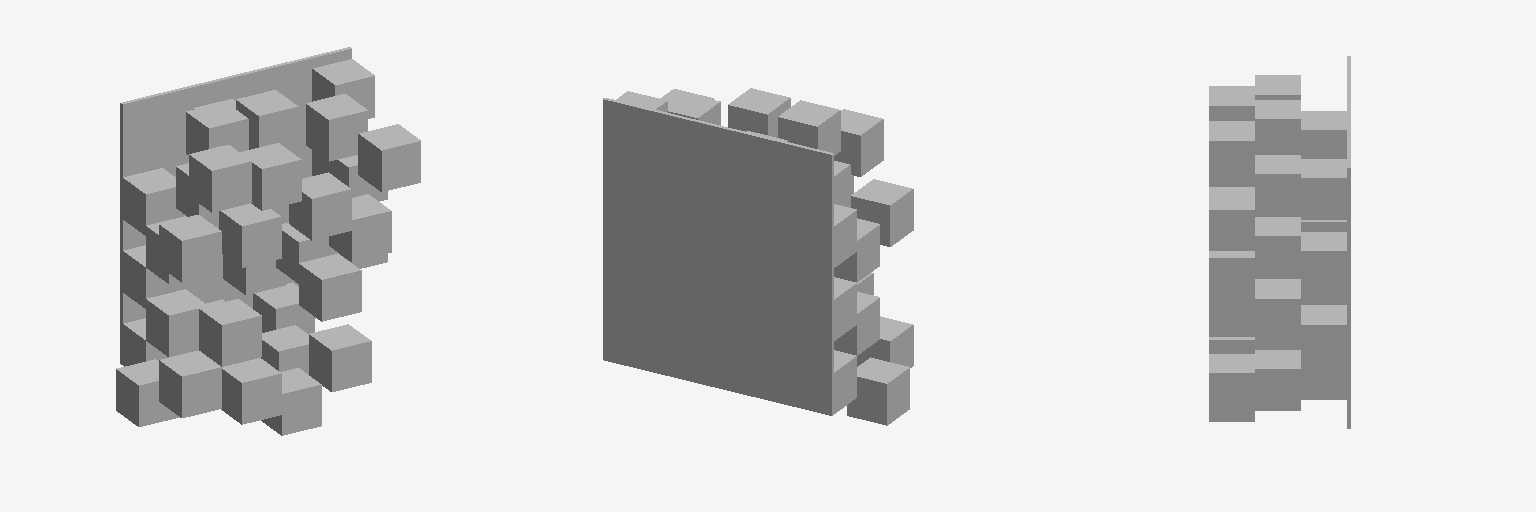
Rendered from room.obj.
3 views of the same model, side by side, from view 1: azimuth 30°, elevation 25°; view 2: azimuth 150°, elevation 25°; view 3: azimuth 270°, elevation 25° (orthographic).
Visible parts, largest first — view 1: Body1, Body13, Body17, Body14, Body11, Body12, Body15, Body20, Body18, Body19, Body16; view 2: Body1, Body15, Body11, Body13; view 3: Body1, Body16, Body18, Body20, Body17, Body12, Body11, Body14.
Boxes of the visible parts, <box> form: Body1: <box>116,47,387,426</box>; Body13: <box>159,299,261,417</box>; Body17: <box>289,172,391,261</box>; Body14: <box>221,358,321,435</box>; Body11: <box>189,145,251,212</box>; Body12: <box>299,253,361,321</box>; Body15: <box>159,215,221,282</box>; Body20: <box>358,124,420,191</box>; Body18: <box>309,324,371,391</box>; Body19: <box>219,203,281,267</box>; Body16: <box>240,143,301,210</box>; Body1: <box>603,88,909,425</box>; Body15: <box>851,179,913,246</box>; Body11: <box>834,109,883,176</box>; Body13: <box>857,272,913,367</box>; Body1: <box>1255,56,1350,428</box>; Body16: <box>1209,121,1254,182</box>; Body18: <box>1209,354,1254,414</box>; Body20: <box>1209,190,1254,250</box>; Body17: <box>1209,187,1254,298</box>; Body12: <box>1209,299,1254,336</box>; Body11: <box>1209,86,1254,120</box>; Body14: <box>1209,337,1254,421</box>.
Bounding box in the file's own units: 130 × 145 × 62.